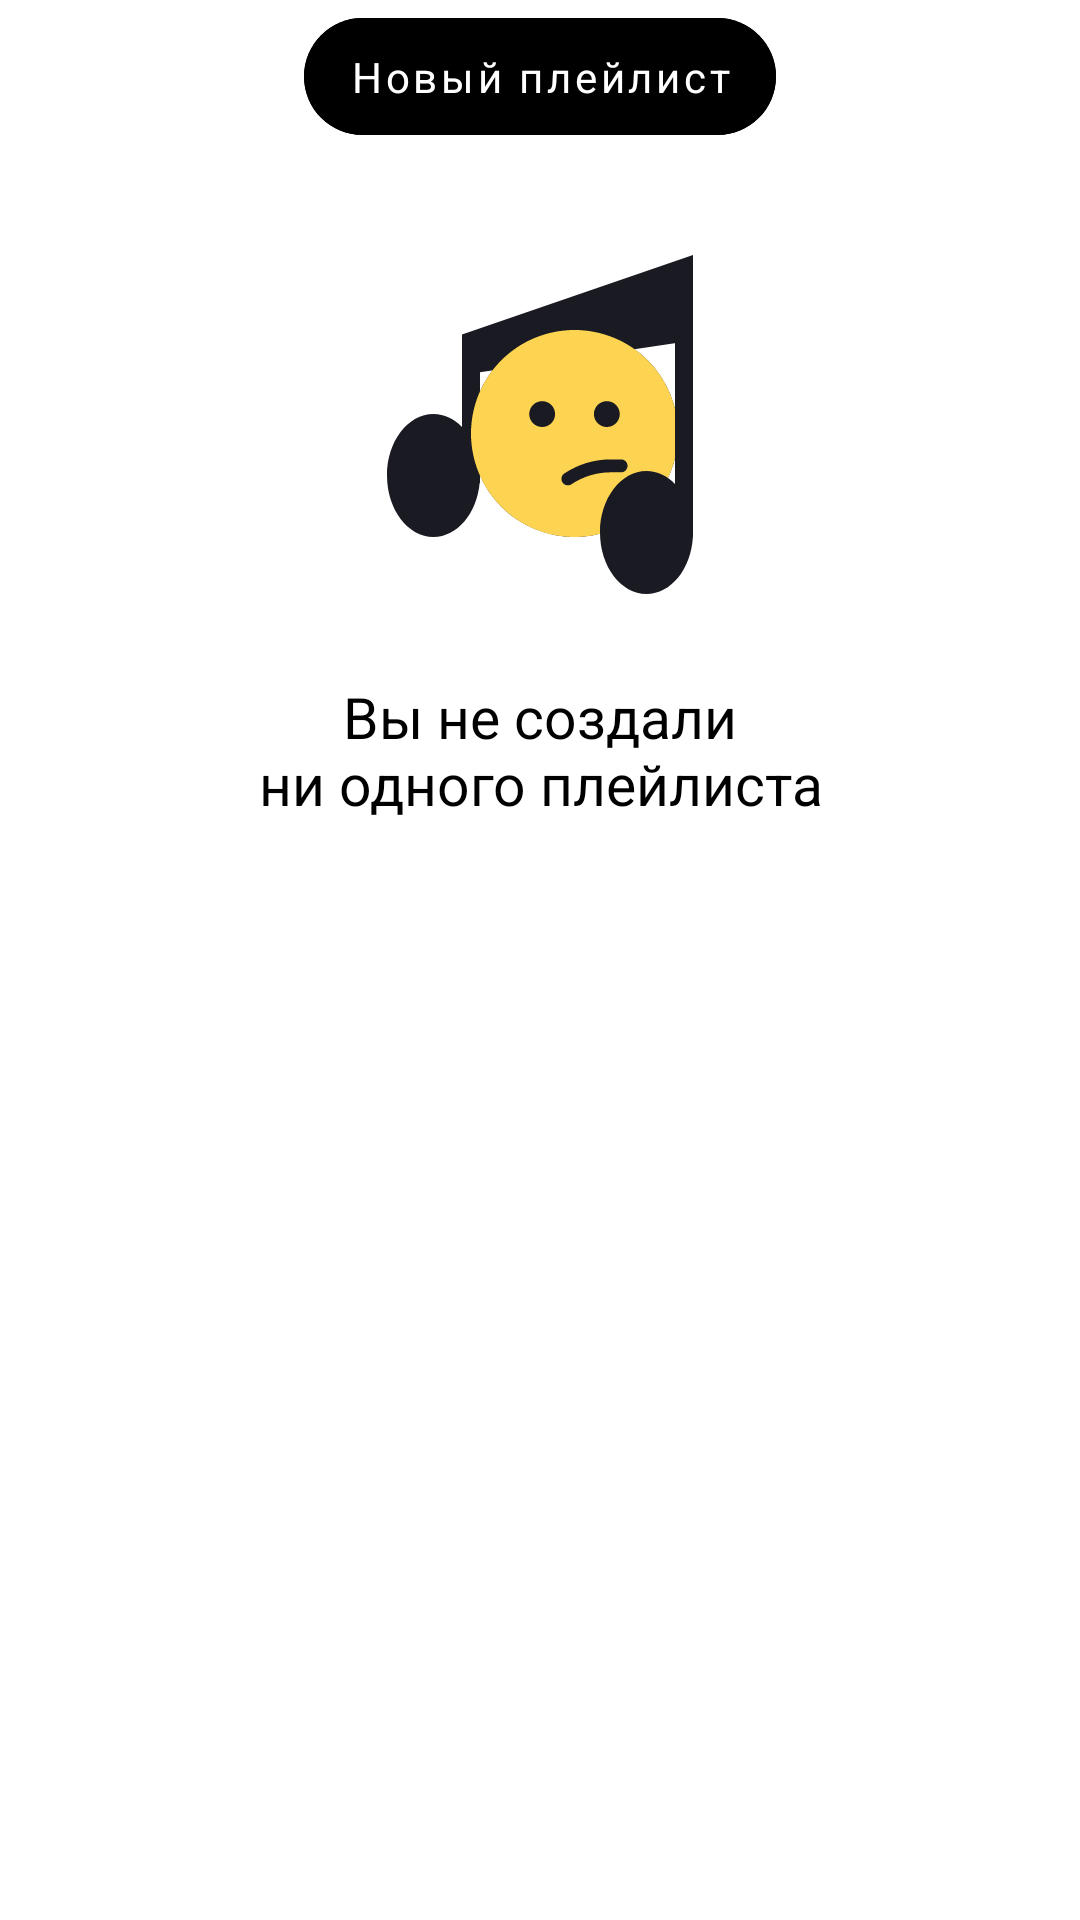

Named icons in this screenshot (1080x1920) and their bounding boxes, BBox(x1, y1, x2, y2):
not found: BBox(387, 255, 693, 594)
